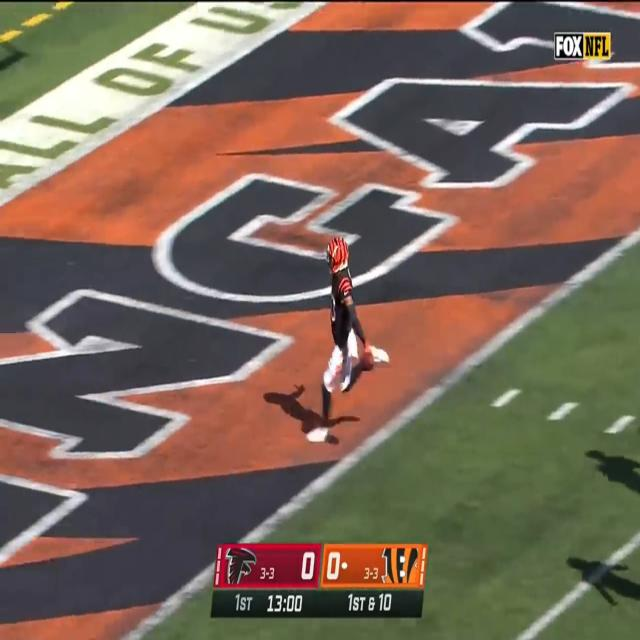Ball: (360, 352, 374, 372)
